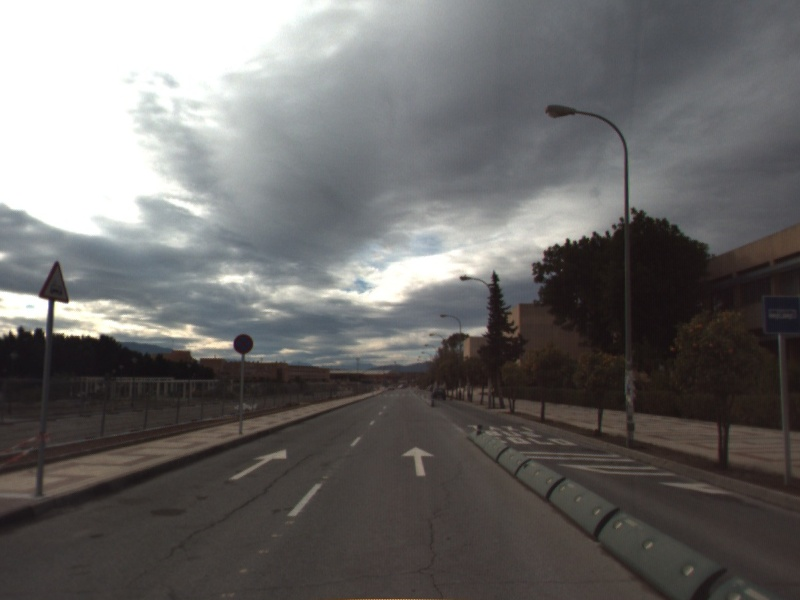STRAIGHT: (227, 448, 289, 482), (399, 444, 436, 478)
